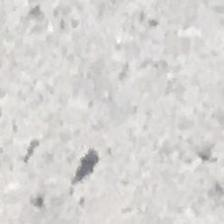Non_Crack: (32, 37, 214, 192)
